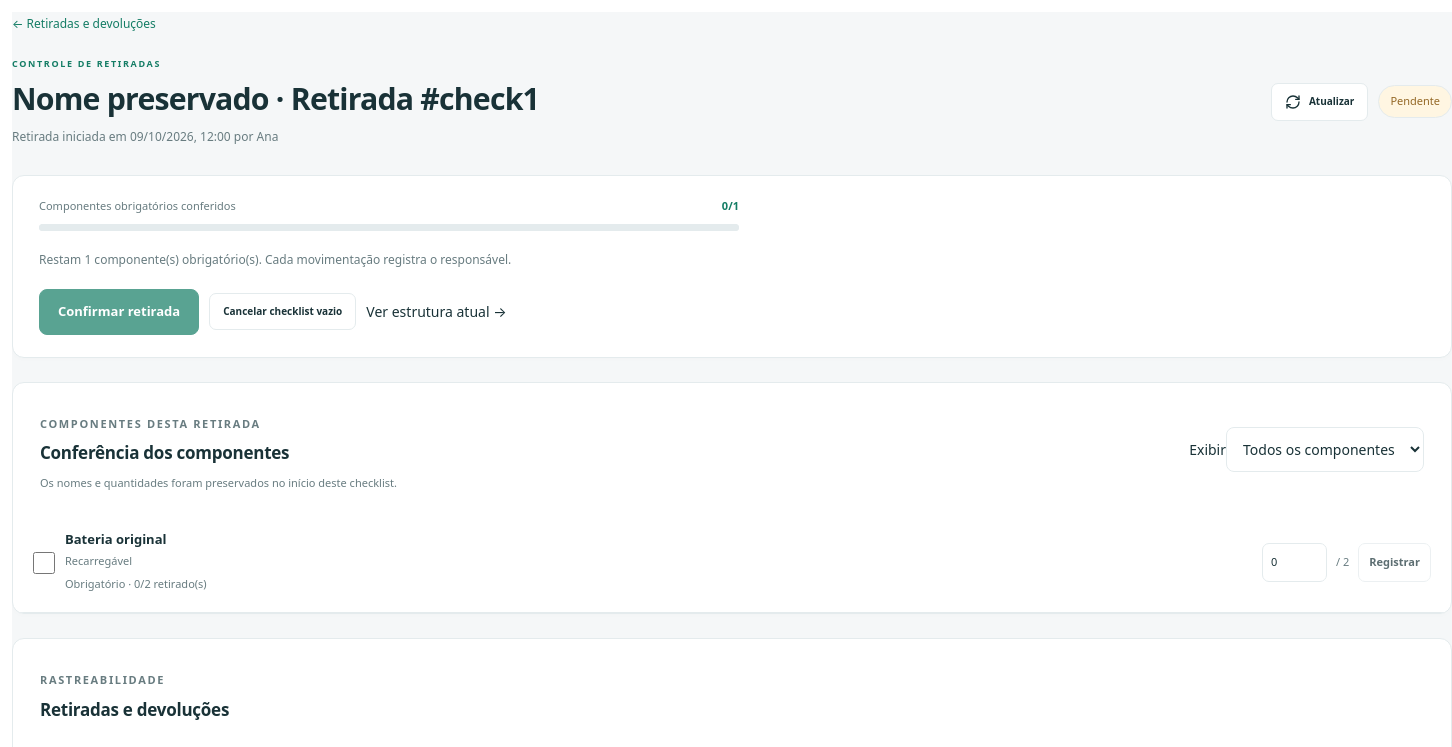
confere uma retirada, mantém o snapshot e pede confirmação para finalizar
Expected: the heading "Nome preservado · Retirada #check1" is shown, 12,80 -> 539,117
Expected: the button "Confirmar retirada" is disabled, 39,289 -> 199,335
Click the checkbox named "Conferir Bateria original".
click(44, 563)  # box 33,552 -> 55,574
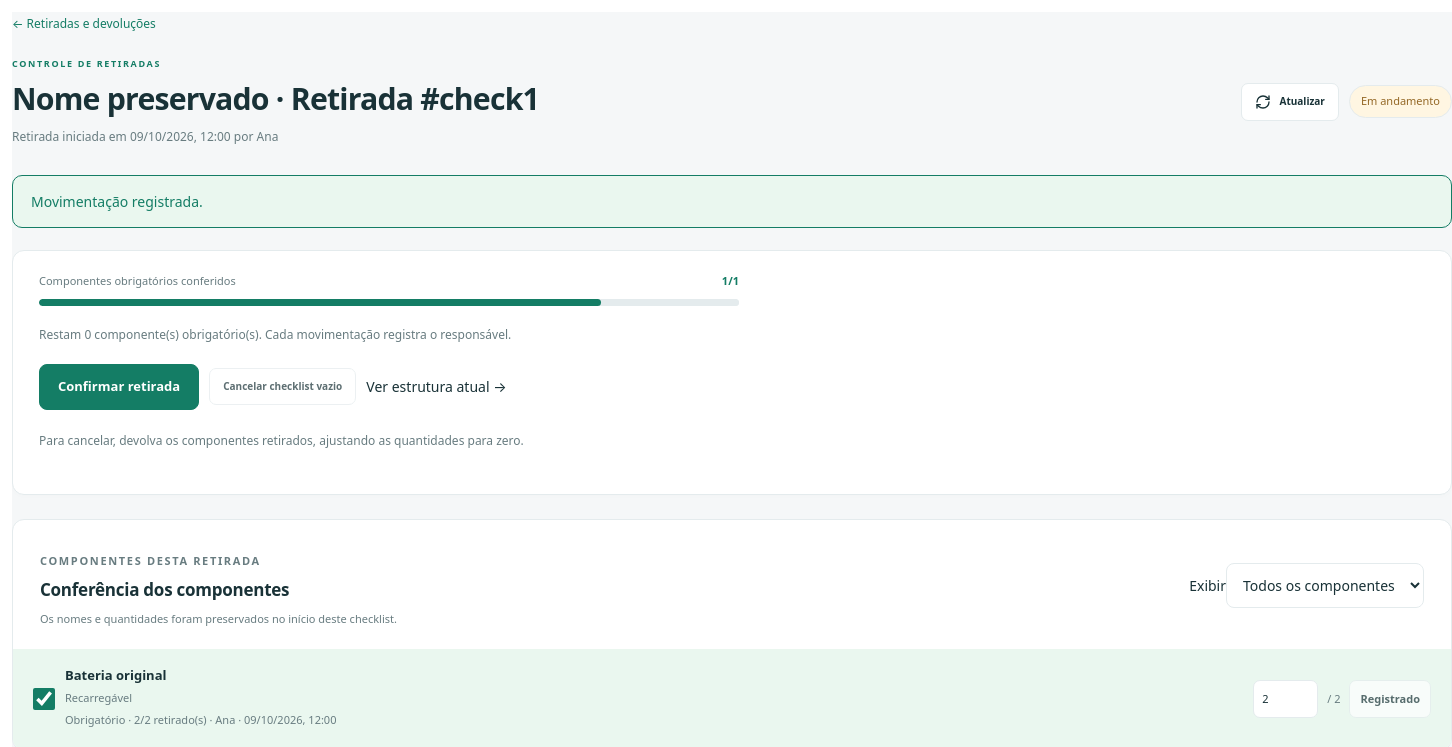
Expected: the button "Confirmar retirada" is enabled, 39,364 -> 199,410
Select "Conferidos" in the dropdown labelled "Exibir" at (1325, 586), box 1226,564 -> 1424,608
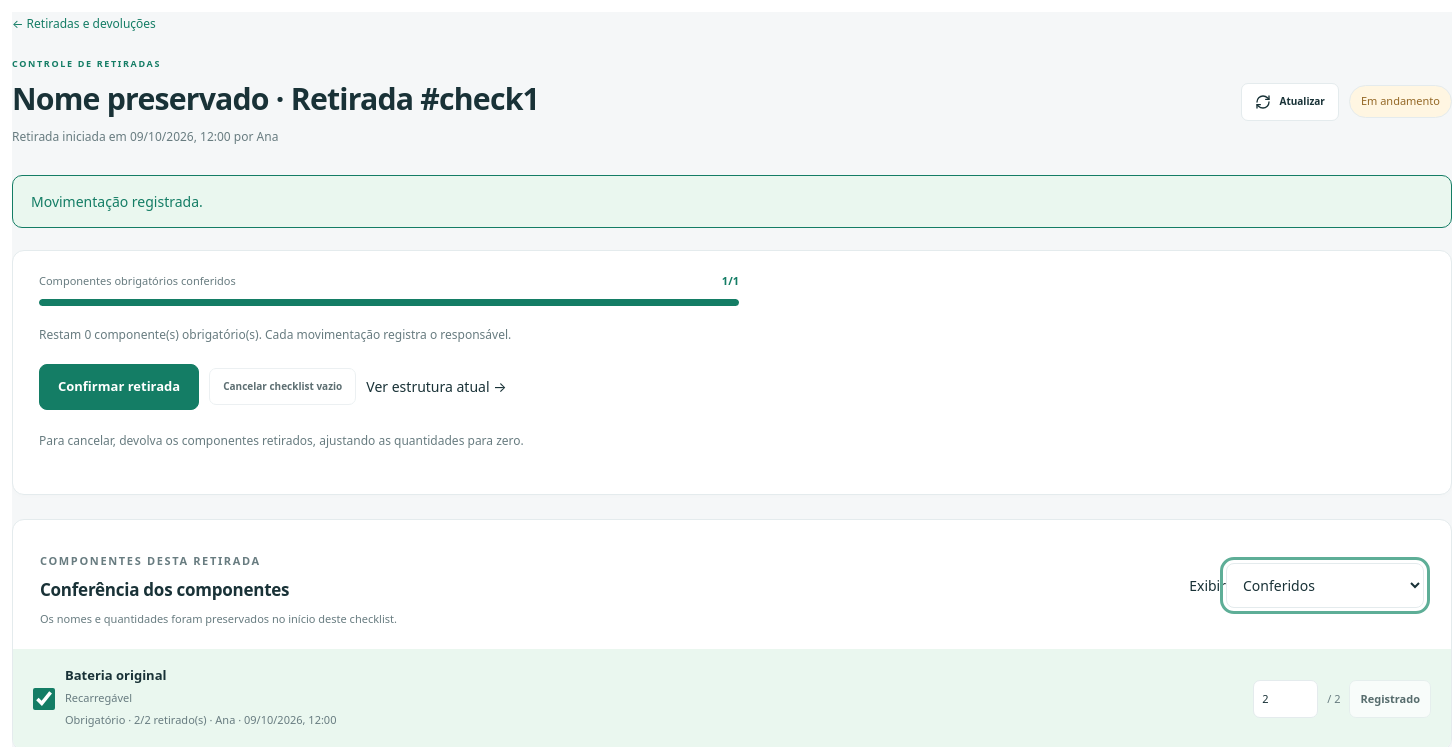
Click the button "Confirmar retirada".
click(119, 387)  # box 39,364 -> 199,410
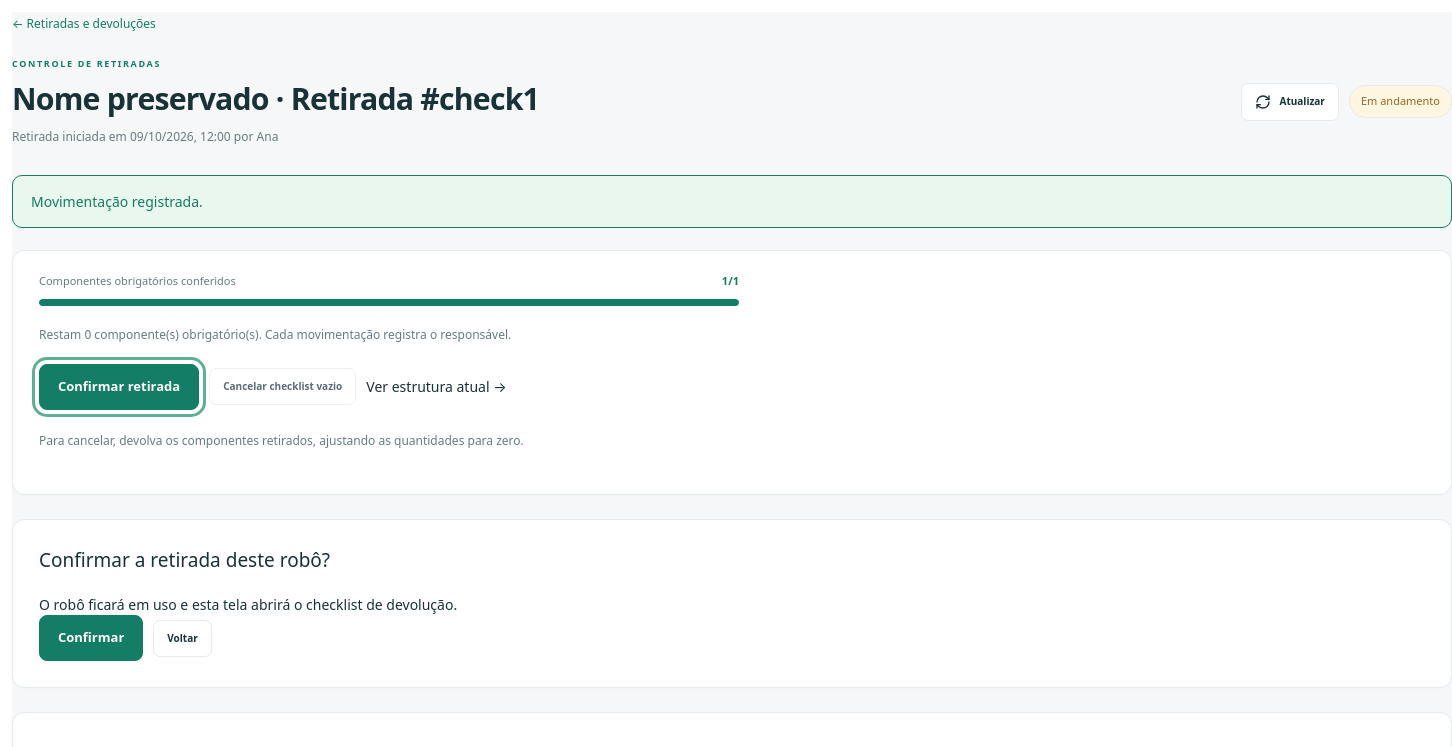
Click the button "Confirmar".
click(91, 638)  # box 39,615 -> 143,661
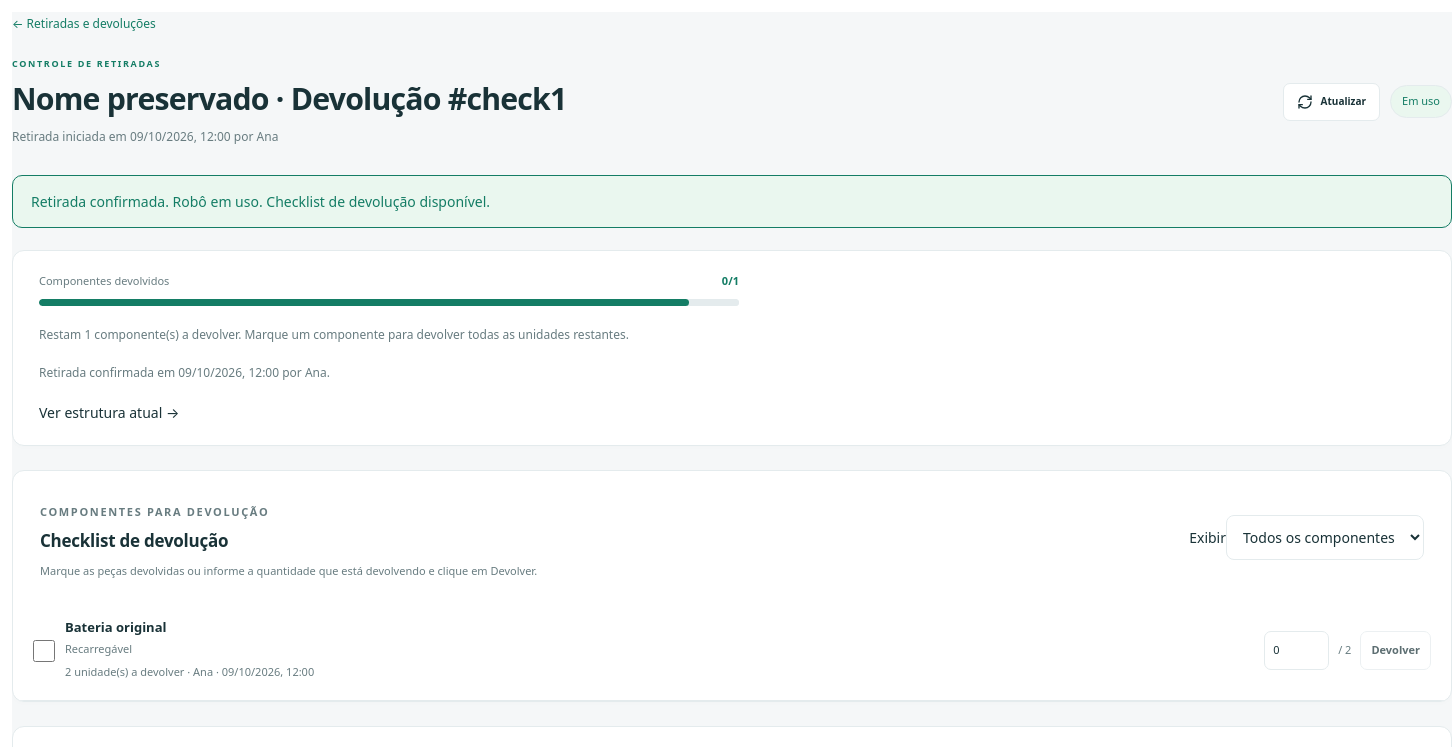
Expected: the checkbox named "Devolver Bateria original" is not checked, 33,640 -> 55,662
Expected: the text "Em uso" is shown, 1390,86 -> 1451,118
Expected: the heading "Checklist de devolução" is shown, 40,529 -> 228,552
